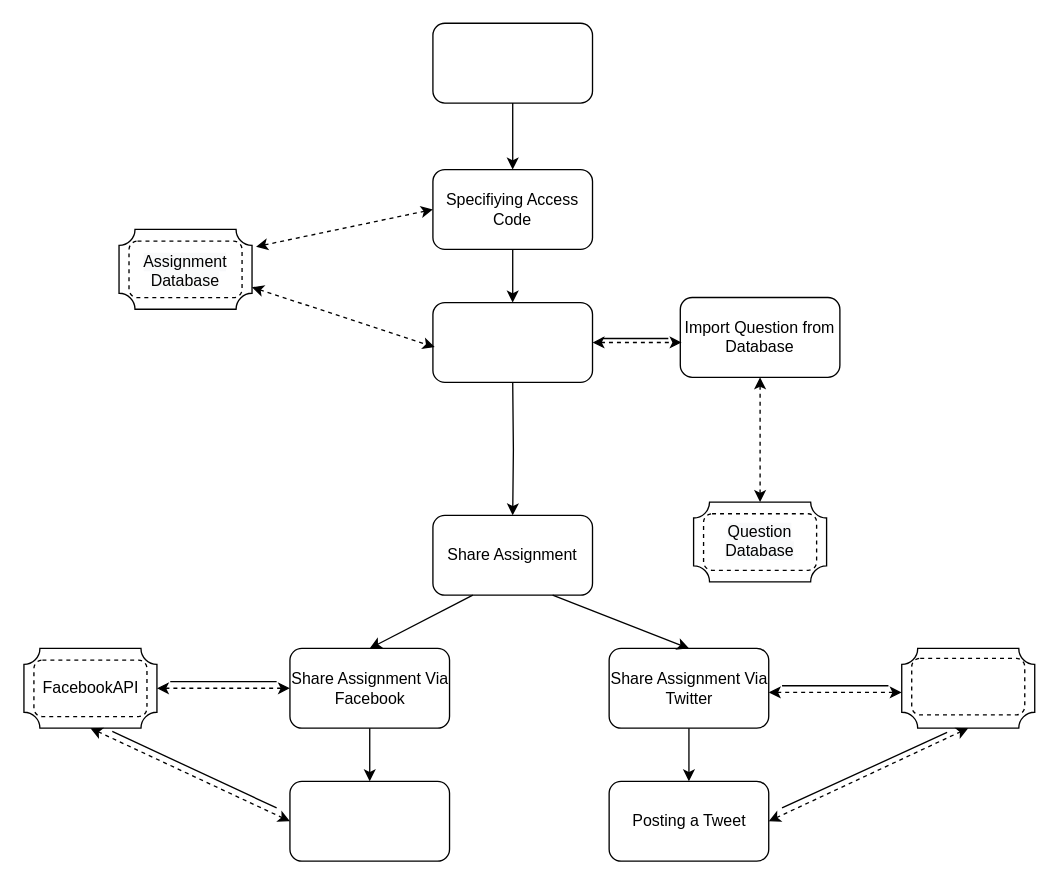
Image size: 1057x884. Some labels were removed from this diagram. The shapes that lost their labels are listed below. From the top down, each one's box as (x1, y1, x2, y2) in pixels, then its label:
(432, 22, 593, 103): Create Assignment
(432, 301, 593, 382): Filling of Questions
(910, 657, 1025, 715): TwitterAPI
(289, 780, 450, 861): Facebook Post
